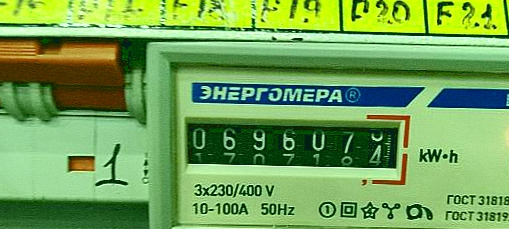0: (189, 123, 206, 148), (309, 124, 324, 149)
4: (365, 140, 382, 165)
6: (279, 124, 296, 149), (219, 124, 236, 148)
7: (339, 127, 354, 153)
9: (249, 125, 265, 149)
screen: (169, 101, 413, 181)
